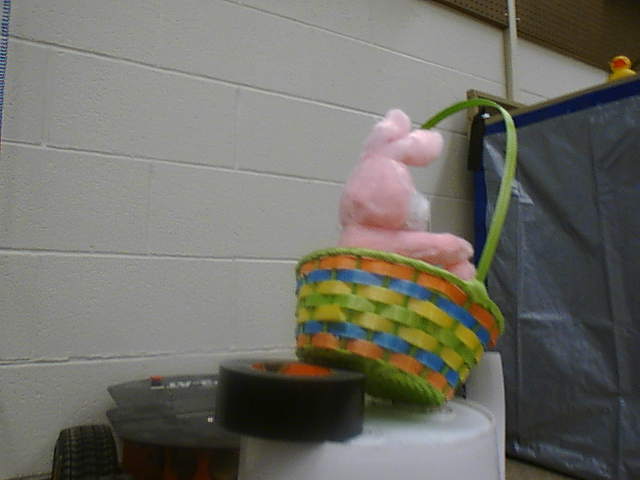bunny: (281, 94, 532, 413)
